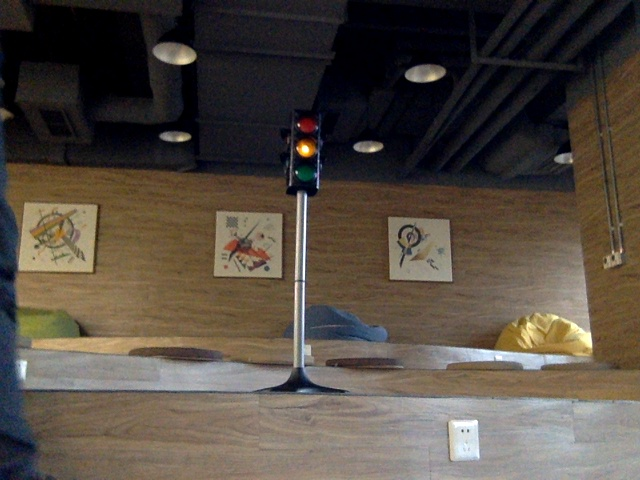yellow: (288, 118, 316, 182)
